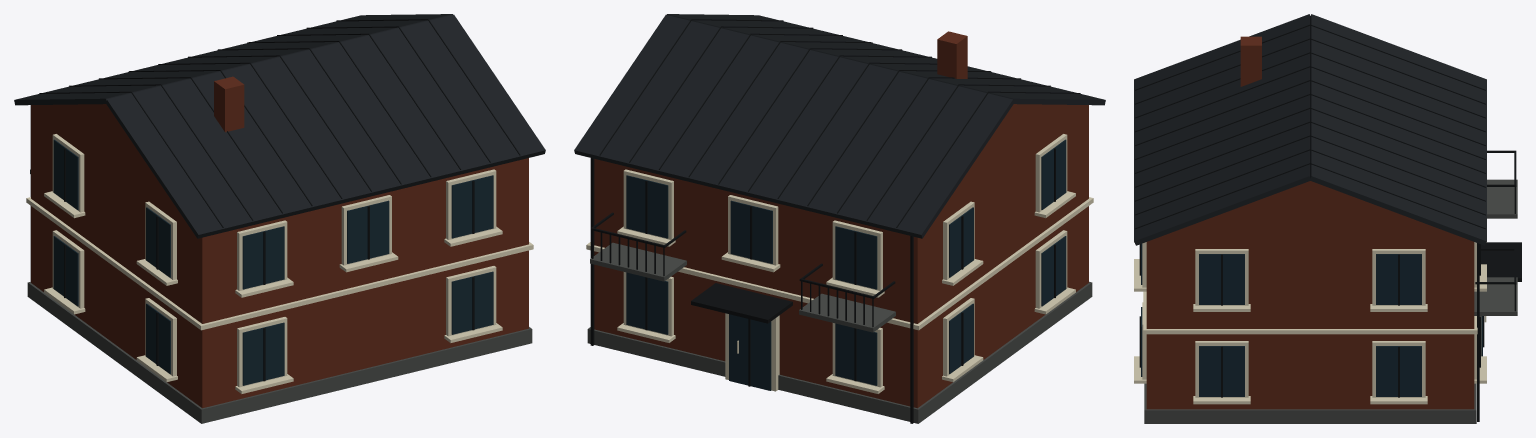
File: 05_Townhouse.obj
3 views of the same model, side by side, from view 1: azimuth 30°, elevation 25°; view 2: azimuth 150°, elevation 25°; view 3: azimuth 270°, elevation 25° (orthographic). The views are drawn at different scales.
Parts seen in each view (by area): view 1: Brick, Roof, Glass, Trim, Base, Metal; view 2: Roof, Brick, Glass, Trim, Metal, Base; view 3: Roof, Brick, Metal, Glass, Trim, Base.
Part boxes in pixels (box(x1,y1,x2,y2)): Brick: box(31, 76, 528, 408); Roof: box(14, 14, 545, 238); Glass: box(53, 139, 493, 385); Trim: box(26, 134, 533, 393); Base: box(27, 169, 532, 423); Metal: box(30, 19, 520, 381); Roof: box(574, 14, 1105, 238); Brick: box(594, 31, 1088, 408); Glass: box(626, 139, 1066, 390); Trim: box(586, 134, 1093, 393); Metal: box(590, 19, 1080, 423); Base: box(587, 242, 1092, 423); Roof: box(1134, 14, 1486, 245); Brick: box(1146, 36, 1474, 409); Metal: box(1135, 24, 1521, 421); Glass: box(1141, 244, 1482, 396); Trim: box(1134, 242, 1486, 404); Base: box(1144, 179, 1517, 423).
Bounding box in the file's own units: 11.76 × 9 × 11.83.
